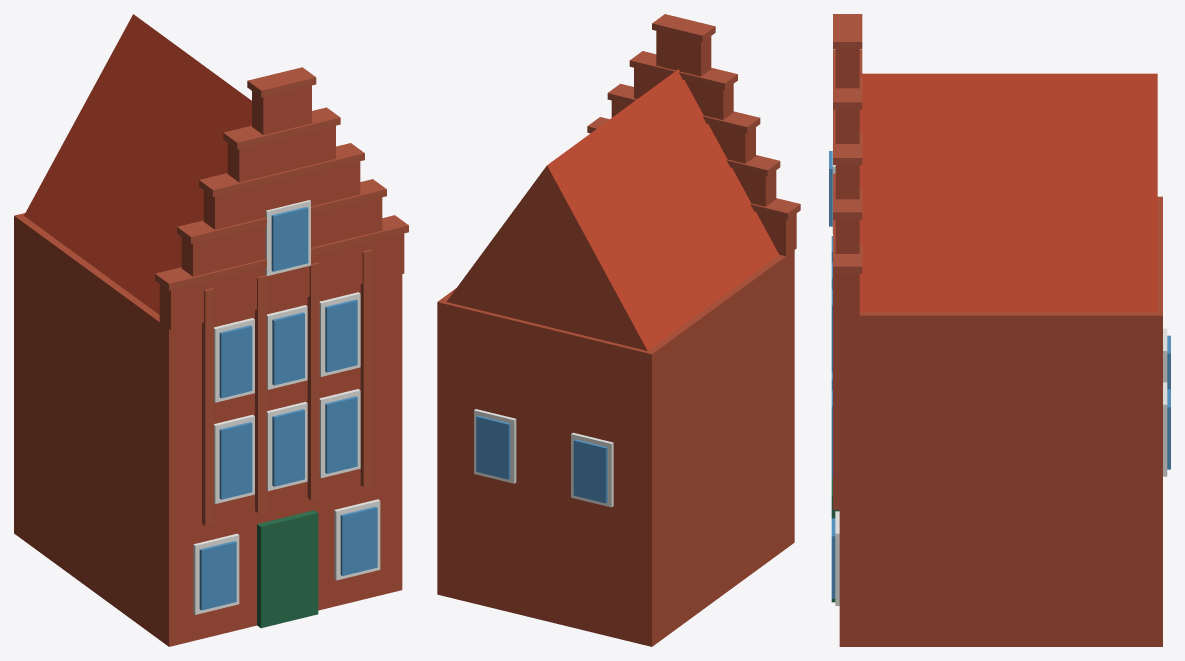
Rendered from 35_brick_gothic_2.obj.
The picture shows the model from 3 angles, left to right: view 1: azimuth 30°, elevation 25°; view 2: azimuth 150°, elevation 25°; view 3: azimuth 270°, elevation 25°; orthographic projection. The views are drawn at different scales.
Parts seen in each view (by area): view 1: 35_brick_gothic_2; view 2: 35_brick_gothic_2; view 3: 35_brick_gothic_2.
Boxes of the visible parts, x1=… form: 35_brick_gothic_2: x1=14, y1=14, x2=408, y2=646; 35_brick_gothic_2: x1=437, y1=14, x2=800, y2=646; 35_brick_gothic_2: x1=829, y1=14, x2=1170, y2=646.
Size of the model in its own units: 1.09 by 2.33 by 1.29.
